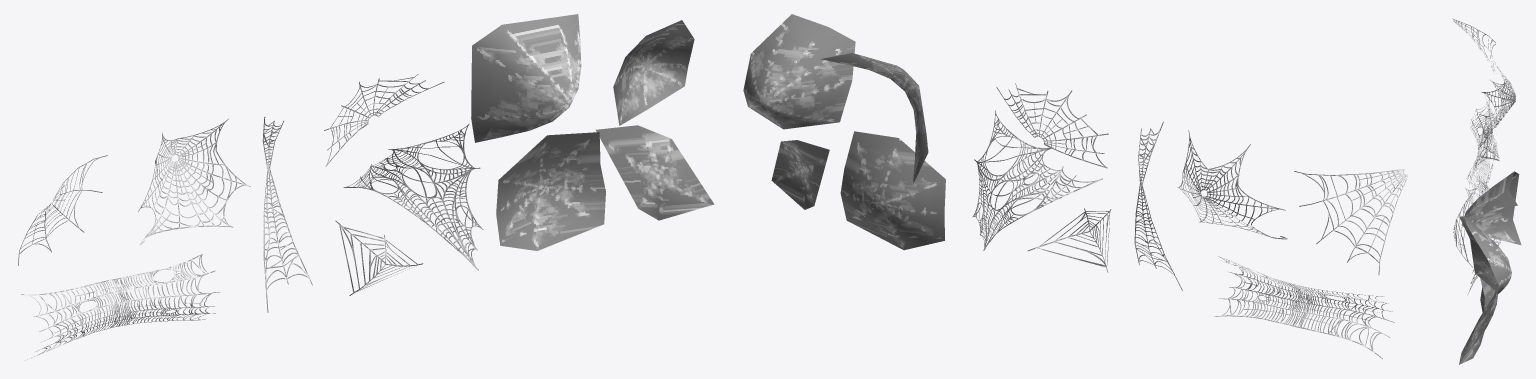
File: cobwebs.glb
3 views of the same model, side by side, from view 1: azimuth 30°, elevation 25°; view 2: azimuth 150°, elevation 25°; view 3: azimuth 270°, elevation 25° (orthographic). The views are drawn at different scales.
Visible parts, largest first — view 1: Object_2, Object_4, Object_3; view 2: Object_2, Object_4, Object_3; view 3: Object_2, Object_4, Object_3.
Part boxes in pixels (x1,y1,x2,y2): Object_2: (471, 14, 714, 250); Object_4: (18, 119, 250, 359); Object_3: (262, 74, 483, 312); Object_2: (743, 14, 945, 250); Object_4: (1177, 130, 1408, 359); Object_3: (972, 83, 1182, 290); Object_2: (1459, 171, 1521, 364); Object_4: (1452, 18, 1515, 195); Object_3: (1453, 98, 1500, 295).
Size of the model in its own units: 192 by 58.15 by 26.86.
3 materials, 3 textured.
